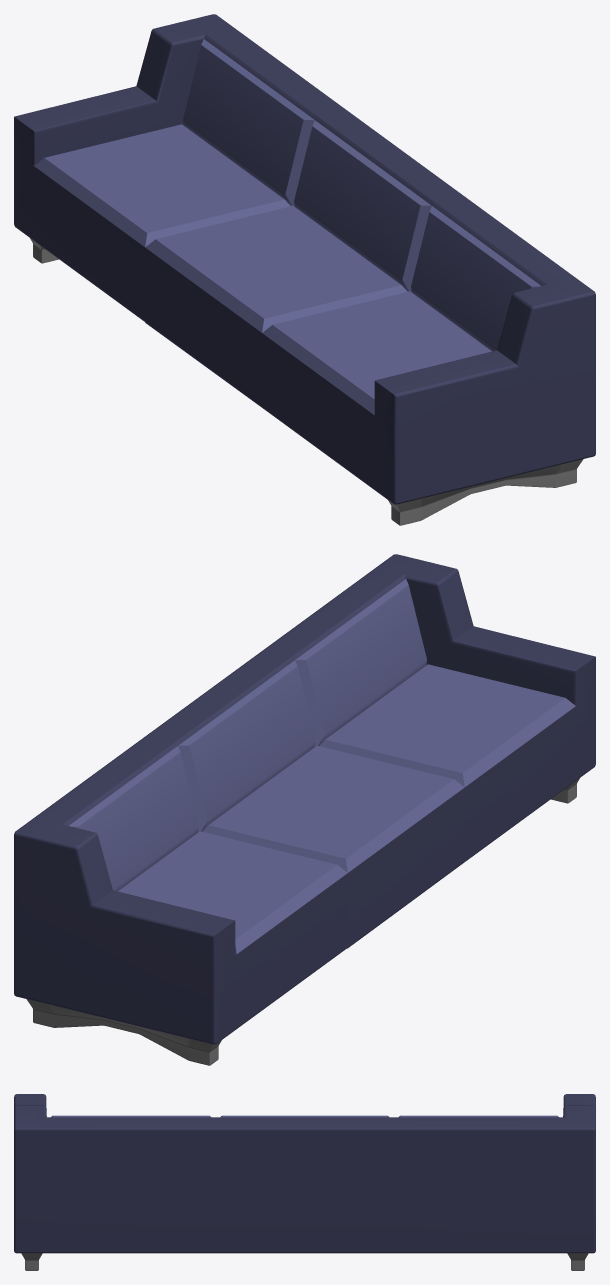
Rendered from Couch.fbx.
The picture shows the model from 3 angles, top to bottom: view 1: azimuth 30°, elevation 25°; view 2: azimuth 150°, elevation 25°; view 3: azimuth 270°, elevation 25°; orthographic projection. The views are drawn at different scales.
Parts seen in each view (by area): view 1: Couch_Body, Couch_Feet; view 2: Couch_Body, Couch_Feet; view 3: Couch_Body, Couch_Feet.
Part boxes in pixels (x1=…): Couch_Body: x1=14, y1=14, x2=595, y2=504; Couch_Feet: x1=30, y1=238, x2=583, y2=525; Couch_Body: x1=14, y1=554, x2=595, y2=1044; Couch_Feet: x1=26, y1=778, x2=579, y2=1065; Couch_Body: x1=14, y1=1094, x2=595, y2=1253; Couch_Feet: x1=21, y1=1253, x2=588, y2=1270.
Bounding box in the file's own units: 89.8 × 81.97 × 293.
